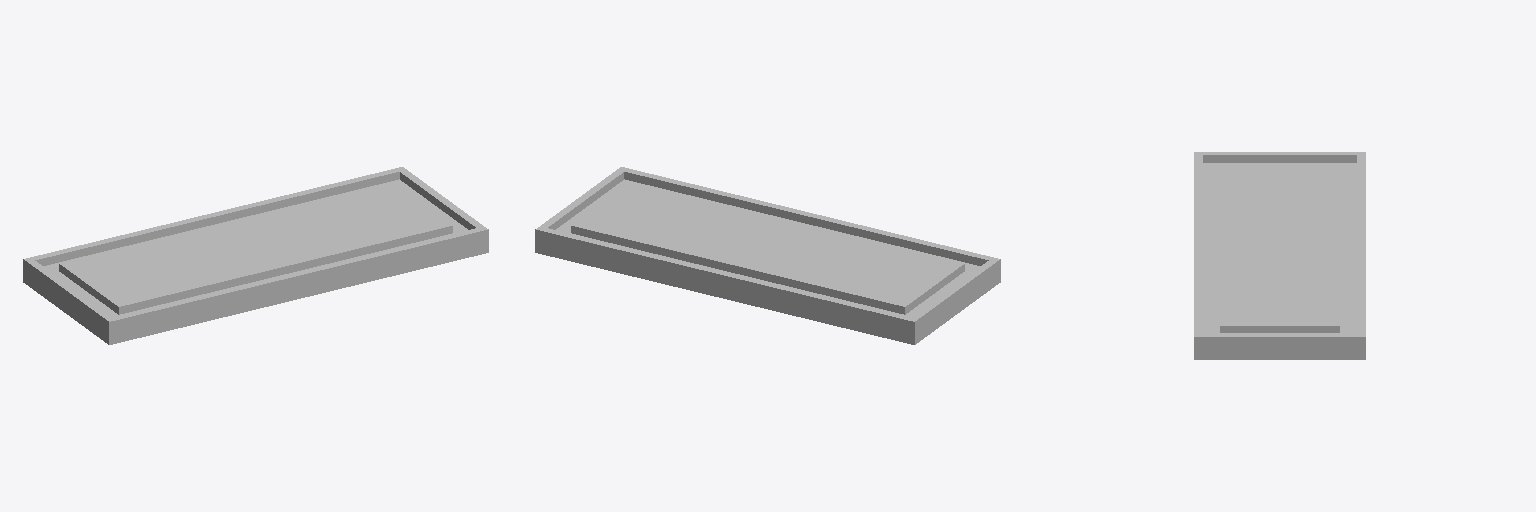
Rendered from board2.obj.
3 renders of one model, left to right at view 1: azimuth 30°, elevation 25°; view 2: azimuth 150°, elevation 25°; view 3: azimuth 270°, elevation 25°, orthographic.
Parts seen in each view (by area): view 1: object 1; view 2: object 1; view 3: object 1.
Part boxes in pixels (left/top/right/bottom): object 1: left=23, top=167, right=488, bottom=344; object 1: left=535, top=167, right=1000, bottom=344; object 1: left=1194, top=152, right=1365, bottom=359.
Bounding box in the file's own units: 5.1 × 0.3 × 2.